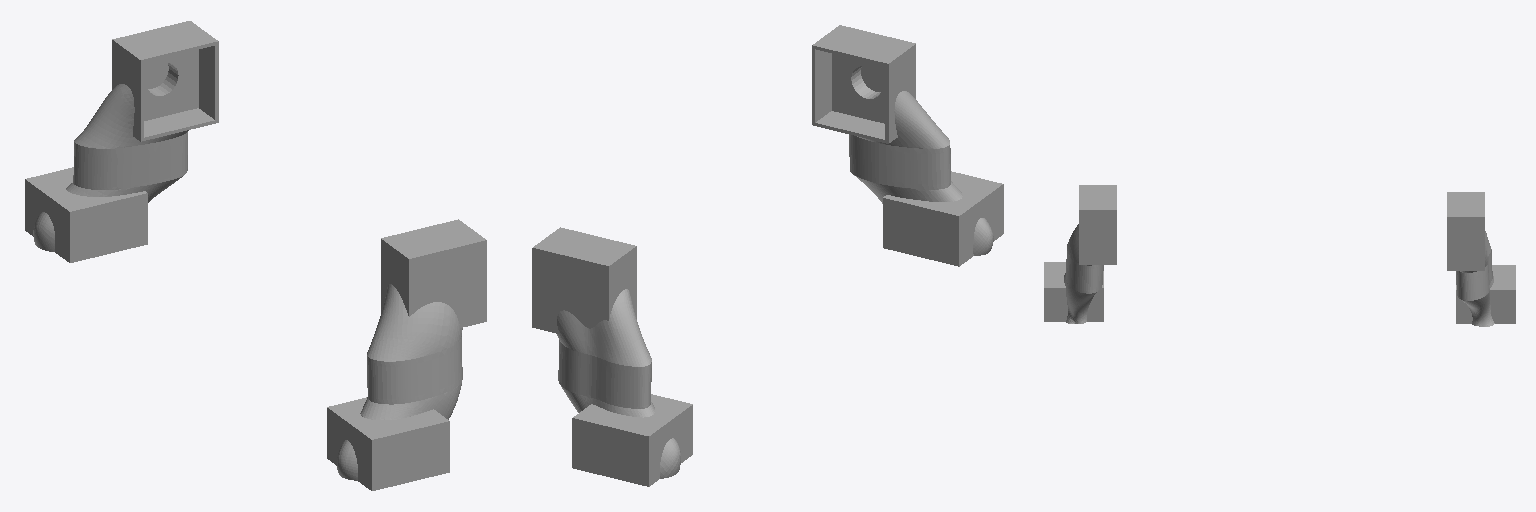
URDF robot description (FrogBot3_top-FrogBot3-x-5_bottom-FrogBot3-x-5):
<?xml version="1.0" ?>
<robot name="FrogBot3_top-FrogBot3-x-5_bottom-FrogBot3-x-5">

<material name="pla_5_percent_infill">
  <color rgba="0.700 0.700 0.700 1.000"/>
</material>

<link name="base_link">
  <inertial>
    <origin xyz="0 0 0" rpy="0 0 0"/>
    <mass value="1.5419899792307459"/>
    <inertia ixx="0.00548360766617452" iyy="0.013703915460827363" izz="0.01374284978888296" ixy="5.961000823851259e-05" iyz="4.9944941207846085e-05" ixz="-0.0023657822822012154"/>
  </inertial>
  <visual>
    <origin xyz="0 0 0" rpy="0 0 0"/>
    <geometry>
      <mesh filename="simple_meshes/base_link.stl" scale="0.001 0.001 0.001"/>
    </geometry>
    <material name="pla_5_percent_infill"/>
  </visual>
  <collision>
    <origin xyz="0 0 0" rpy="0 0 0"/>
    <geometry>
      <mesh filename="simple_meshes/base_link.stl" scale="0.001 0.001 0.001"/>
    </geometry>
  </collision>
</link>

<link name="body_1_0_1">
  <inertial>
    <origin xyz="-0.065859 -0.113451 -0.001976" rpy="0 0 0"/>
    <mass value="0.04783465722642416"/>
    <inertia ixx="4.531001731669865e-05" iyy="6.193136406857524e-05" izz="2.81527564341944e-05" ixy="3.481773044631295e-06" iyz="4.413253535819604e-06" ixz="-1.6933476287240627e-05"/>
  </inertial>
  <visual>
    <origin xyz="-0.065859 -0.113451 -0.001976" rpy="0 0 0"/>
    <geometry>
      <mesh filename="simple_meshes/body_1_0_1.stl" scale="0.001 0.001 0.001"/>
    </geometry>
    <material name="pla_5_percent_infill"/>
  </visual>
  <collision>
    <origin xyz="-0.065859 -0.113451 -0.001976" rpy="0 0 0"/>
    <geometry>
      <mesh filename="simple_meshes/body_1_0_1.stl" scale="0.001 0.001 0.001"/>
    </geometry>
  </collision>
</link>

<link name="body_1_1_1">
  <inertial>
    <origin xyz="0.083929 -0.113451 -0.010696" rpy="0 0 0"/>
    <mass value="0.07307874415238762"/>
    <inertia ixx="6.736694218320138e-05" iyy="0.00010974122856870997" izz="6.08310116500619e-05" ixy="6.686072377994111e-06" iyz="1.1128532076467527e-05" ixz="-2.882174107405439e-05"/>
  </inertial>
  <visual>
    <origin xyz="0.083929 -0.113451 -0.010696" rpy="0 0 0"/>
    <geometry>
      <mesh filename="simple_meshes/body_1_1_1.stl" scale="0.001 0.001 0.001"/>
    </geometry>
    <material name="pla_5_percent_infill"/>
  </visual>
  <collision>
    <origin xyz="0.083929 -0.113451 -0.010696" rpy="0 0 0"/>
    <geometry>
      <mesh filename="simple_meshes/body_1_1_1.stl" scale="0.001 0.001 0.001"/>
    </geometry>
  </collision>
</link>

<link name="body_1_2_1">
  <inertial>
    <origin xyz="-0.060736 0.113451 -0.005366" rpy="0 0 0"/>
    <mass value="0.04990230243000489"/>
    <inertia ixx="4.993327045828733e-05" iyy="6.541641537404581e-05" izz="2.796023696909262e-05" ixy="-3.6169679934120575e-06" iyz="-6.3479010818384566e-06" ixz="-1.774042489524267e-05"/>
  </inertial>
  <visual>
    <origin xyz="-0.060736 0.113451 -0.005366" rpy="0 0 0"/>
    <geometry>
      <mesh filename="simple_meshes/body_1_2_1.stl" scale="0.001 0.001 0.001"/>
    </geometry>
    <material name="pla_5_percent_infill"/>
  </visual>
  <collision>
    <origin xyz="-0.060736 0.113451 -0.005366" rpy="0 0 0"/>
    <geometry>
      <mesh filename="simple_meshes/body_1_2_1.stl" scale="0.001 0.001 0.001"/>
    </geometry>
  </collision>
</link>

<link name="body_1_3_1">
  <inertial>
    <origin xyz="0.093982 0.113451 -0.005431" rpy="0 0 0"/>
    <mass value="0.07469627077404872"/>
    <inertia ixx="6.2412366229806e-05" iyy="9.668844387939629e-05" izz="5.452830379913155e-05" ixy="-4.970209385090187e-06" iyz="-9.891095132165807e-06" ixz="-2.1252253252084376e-05"/>
  </inertial>
  <visual>
    <origin xyz="0.093982 0.113451 -0.005431" rpy="0 0 0"/>
    <geometry>
      <mesh filename="simple_meshes/body_1_3_1.stl" scale="0.001 0.001 0.001"/>
    </geometry>
    <material name="pla_5_percent_infill"/>
  </visual>
  <collision>
    <origin xyz="0.093982 0.113451 -0.005431" rpy="0 0 0"/>
    <geometry>
      <mesh filename="simple_meshes/body_1_3_1.stl" scale="0.001 0.001 0.001"/>
    </geometry>
  </collision>
</link>

<link name="body_2_0_1">
  <inertial>
    <origin xyz="-0.026166 -0.164707 0.107895" rpy="0 0 0"/>
    <mass value="0.10238823625653794"/>
    <inertia ixx="0.00010008331551450856" iyy="0.00022481603524302646" izz="0.0002034028311130899" ixy="3.3692519920492173e-06" iyz="-3.987127410240345e-06" ixz="8.241385688559366e-05"/>
  </inertial>
  <visual>
    <origin xyz="-0.026166 -0.164707 0.107895" rpy="0 0 0"/>
    <geometry>
      <mesh filename="simple_meshes/body_2_0_1.stl" scale="0.001 0.001 0.001"/>
    </geometry>
    <material name="pla_5_percent_infill"/>
  </visual>
  <collision>
    <origin xyz="-0.026166 -0.164707 0.107895" rpy="0 0 0"/>
    <geometry>
      <mesh filename="simple_meshes/body_2_0_1.stl" scale="0.001 0.001 0.001"/>
    </geometry>
  </collision>
</link>

<link name="body_2_1_1">
  <inertial>
    <origin xyz="0.127747 -0.174737 0.107895" rpy="0 0 0"/>
    <mass value="0.0834854047999546"/>
    <inertia ixx="7.017532083112253e-05" iyy="0.00011937848844512837" izz="0.00010493629953184412" ixy="-9.845674140543815e-06" iyz="4.300606108501113e-06" ixz="4.442791496576384e-05"/>
  </inertial>
  <visual>
    <origin xyz="0.127747 -0.174737 0.107895" rpy="0 0 0"/>
    <geometry>
      <mesh filename="simple_meshes/body_2_1_1.stl" scale="0.001 0.001 0.001"/>
    </geometry>
    <material name="pla_5_percent_infill"/>
  </visual>
  <collision>
    <origin xyz="0.127747 -0.174737 0.107895" rpy="0 0 0"/>
    <geometry>
      <mesh filename="simple_meshes/body_2_1_1.stl" scale="0.001 0.001 0.001"/>
    </geometry>
  </collision>
</link>

<link name="body_2_2_1">
  <inertial>
    <origin xyz="-0.021708 0.167525 0.107895" rpy="0 0 0"/>
    <mass value="0.10105034567775163"/>
    <inertia ixx="9.848975251736634e-05" iyy="0.0002206527701332974" izz="0.00019898620748433566" ixy="2.66880146543671e-06" iyz="-1.867153540381812e-06" ixz="8.120727556888371e-05"/>
  </inertial>
  <visual>
    <origin xyz="-0.021708 0.167525 0.107895" rpy="0 0 0"/>
    <geometry>
      <mesh filename="simple_meshes/body_2_2_1.stl" scale="0.001 0.001 0.001"/>
    </geometry>
    <material name="pla_5_percent_infill"/>
  </visual>
  <collision>
    <origin xyz="-0.021708 0.167525 0.107895" rpy="0 0 0"/>
    <geometry>
      <mesh filename="simple_meshes/body_2_2_1.stl" scale="0.001 0.001 0.001"/>
    </geometry>
  </collision>
</link>

<link name="body_2_3_1">
  <inertial>
    <origin xyz="0.128136 0.172985 0.107895" rpy="0 0 0"/>
    <mass value="0.07955402448923864"/>
    <inertia ixx="7.064840376382227e-05" iyy="0.00011180328904433377" izz="0.00010280648282360791" ixy="8.051165796357134e-06" iyz="-5.635837877032875e-06" ixz="4.061295110680614e-05"/>
  </inertial>
  <visual>
    <origin xyz="0.128136 0.172985 0.107895" rpy="0 0 0"/>
    <geometry>
      <mesh filename="simple_meshes/body_2_3_1.stl" scale="0.001 0.001 0.001"/>
    </geometry>
    <material name="pla_5_percent_infill"/>
  </visual>
  <collision>
    <origin xyz="0.128136 0.172985 0.107895" rpy="0 0 0"/>
    <geometry>
      <mesh filename="simple_meshes/body_2_3_1.stl" scale="0.001 0.001 0.001"/>
    </geometry>
  </collision>
</link>

<joint name="joint_1_0" type="revolute">
  <origin xyz="0.065859 0.113451 0.001976" rpy="0 0 0"/>
  <parent link="base_link"/>
  <child link="body_1_0_1"/>
  <axis xyz="1.0 0.0 0.0"/>
  <limit upper="1.2" lower="-1.2" effort="3.8" velocity="5.4"/>
</joint>
<transmission name="joint_1_0_tran">
  <type>transmission_interface/SimpleTransmission</type>
  <joint name="joint_1_0">
    <hardwareInterface>PositionJointInterface</hardwareInterface>
  </joint>
  <actuator name="joint_1_0_actr">
    <hardwareInterface>PositionJointInterface</hardwareInterface>
    <mechanicalReduction>1</mechanicalReduction>
  </actuator>
</transmission>

<joint name="joint_1_1" type="revolute">
  <origin xyz="-0.083929 0.113451 0.010696" rpy="0 0 0"/>
  <parent link="base_link"/>
  <child link="body_1_1_1"/>
  <axis xyz="1.0 0.0 0.0"/>
  <limit upper="1.2" lower="-1.2" effort="3.8" velocity="5.4"/>
</joint>
<transmission name="joint_1_1_tran">
  <type>transmission_interface/SimpleTransmission</type>
  <joint name="joint_1_1">
    <hardwareInterface>PositionJointInterface</hardwareInterface>
  </joint>
  <actuator name="joint_1_1_actr">
    <hardwareInterface>PositionJointInterface</hardwareInterface>
    <mechanicalReduction>1</mechanicalReduction>
  </actuator>
</transmission>

<joint name="joint_1_2" type="revolute">
  <origin xyz="0.060736 -0.113451 0.005366" rpy="0 0 0"/>
  <parent link="base_link"/>
  <child link="body_1_2_1"/>
  <axis xyz="1.0 0.0 0.0"/>
  <limit upper="1.2" lower="-1.2" effort="3.8" velocity="5.4"/>
</joint>
<transmission name="joint_1_2_tran">
  <type>transmission_interface/SimpleTransmission</type>
  <joint name="joint_1_2">
    <hardwareInterface>PositionJointInterface</hardwareInterface>
  </joint>
  <actuator name="joint_1_2_actr">
    <hardwareInterface>PositionJointInterface</hardwareInterface>
    <mechanicalReduction>1</mechanicalReduction>
  </actuator>
</transmission>

<joint name="joint_1_3" type="revolute">
  <origin xyz="-0.093982 -0.113451 0.005431" rpy="0 0 0"/>
  <parent link="base_link"/>
  <child link="body_1_3_1"/>
  <axis xyz="1.0 0.0 0.0"/>
  <limit upper="1.2" lower="-1.2" effort="3.8" velocity="5.4"/>
</joint>
<transmission name="joint_1_3_tran">
  <type>transmission_interface/SimpleTransmission</type>
  <joint name="joint_1_3">
    <hardwareInterface>PositionJointInterface</hardwareInterface>
  </joint>
  <actuator name="joint_1_3_actr">
    <hardwareInterface>PositionJointInterface</hardwareInterface>
    <mechanicalReduction>1</mechanicalReduction>
  </actuator>
</transmission>

<joint name="joint_2_0" type="revolute">
  <origin xyz="-0.039693 0.051256 -0.109871" rpy="0 0 0"/>
  <parent link="body_1_0_1"/>
  <child link="body_2_0_1"/>
  <axis xyz="1.0 0.0 0.0"/>
  <limit upper="1.2" lower="-1.2" effort="3.8" velocity="5.4"/>
</joint>
<transmission name="joint_2_0_tran">
  <type>transmission_interface/SimpleTransmission</type>
  <joint name="joint_2_0">
    <hardwareInterface>PositionJointInterface</hardwareInterface>
  </joint>
  <actuator name="joint_2_0_actr">
    <hardwareInterface>PositionJointInterface</hardwareInterface>
    <mechanicalReduction>1</mechanicalReduction>
  </actuator>
</transmission>

<joint name="joint_2_1" type="revolute">
  <origin xyz="-0.043818 0.061286 -0.118591" rpy="0 0 0"/>
  <parent link="body_1_1_1"/>
  <child link="body_2_1_1"/>
  <axis xyz="1.0 0.0 0.0"/>
  <limit upper="1.2" lower="-1.2" effort="3.8" velocity="5.4"/>
</joint>
<transmission name="joint_2_1_tran">
  <type>transmission_interface/SimpleTransmission</type>
  <joint name="joint_2_1">
    <hardwareInterface>PositionJointInterface</hardwareInterface>
  </joint>
  <actuator name="joint_2_1_actr">
    <hardwareInterface>PositionJointInterface</hardwareInterface>
    <mechanicalReduction>1</mechanicalReduction>
  </actuator>
</transmission>

<joint name="joint_2_2" type="revolute">
  <origin xyz="-0.039028 -0.054074 -0.113261" rpy="0 0 0"/>
  <parent link="body_1_2_1"/>
  <child link="body_2_2_1"/>
  <axis xyz="1.0 0.0 0.0"/>
  <limit upper="1.2" lower="-1.2" effort="3.8" velocity="5.4"/>
</joint>
<transmission name="joint_2_2_tran">
  <type>transmission_interface/SimpleTransmission</type>
  <joint name="joint_2_2">
    <hardwareInterface>PositionJointInterface</hardwareInterface>
  </joint>
  <actuator name="joint_2_2_actr">
    <hardwareInterface>PositionJointInterface</hardwareInterface>
    <mechanicalReduction>1</mechanicalReduction>
  </actuator>
</transmission>

<joint name="joint_2_3" type="revolute">
  <origin xyz="-0.034154 -0.059534 -0.113326" rpy="0 0 0"/>
  <parent link="body_1_3_1"/>
  <child link="body_2_3_1"/>
  <axis xyz="1.0 0.0 0.0"/>
  <limit upper="1.2" lower="-1.2" effort="3.8" velocity="5.4"/>
</joint>
<transmission name="joint_2_3_tran">
  <type>transmission_interface/SimpleTransmission</type>
  <joint name="joint_2_3">
    <hardwareInterface>PositionJointInterface</hardwareInterface>
  </joint>
  <actuator name="joint_2_3_actr">
    <hardwareInterface>PositionJointInterface</hardwareInterface>
    <mechanicalReduction>1</mechanicalReduction>
  </actuator>
</transmission>

</robot>

--- What the picture shows (computed from the rendered views, not written in the file) ---
Views: 3 orthographic renders of the robot side by side, from view 1: azimuth 30°, elevation 25°; view 2: azimuth 150°, elevation 25°; view 3: azimuth 270°, elevation 25°.
Robot: FrogBot3_top-FrogBot3-x-5_bottom-FrogBot3-x-5 — 9 links, 8 joints (8 revolute); root link base_link; default pose: every joint at zero.
Visible links, largest first — view 1: body_1_2_1, body_1_0_1; view 2: body_1_0_1, body_1_2_1; view 3: body_1_2_1, body_1_0_1.
Link boxes in pixels (x1=…): body_1_2_1: x1=327, y1=219, x2=486, y2=490; body_1_0_1: x1=25, y1=21, x2=218, y2=262; body_1_0_1: x1=532, y1=227, x2=692, y2=486; body_1_2_1: x1=812, y1=25, x2=1003, y2=266; body_1_2_1: x1=1044, y1=185, x2=1116, y2=323; body_1_0_1: x1=1447, y1=192, x2=1515, y2=326.
Size in the robot's own frame: 0.0992 by 0.3806 by 0.1175 metres.
2 mesh visuals loaded from 9 distinct referenced files (2 binary STL); not drawn: 7 (reference not matched to a file when rendering).